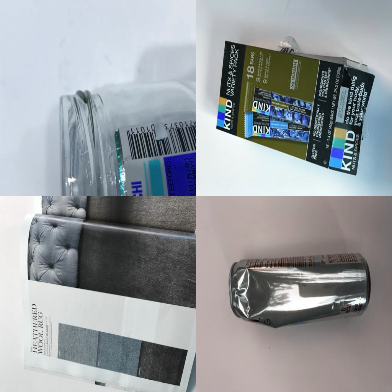cardboard: (216, 37, 375, 177)
glass: (58, 80, 196, 195)
metal: (227, 253, 371, 328)
paper: (21, 195, 195, 392)
